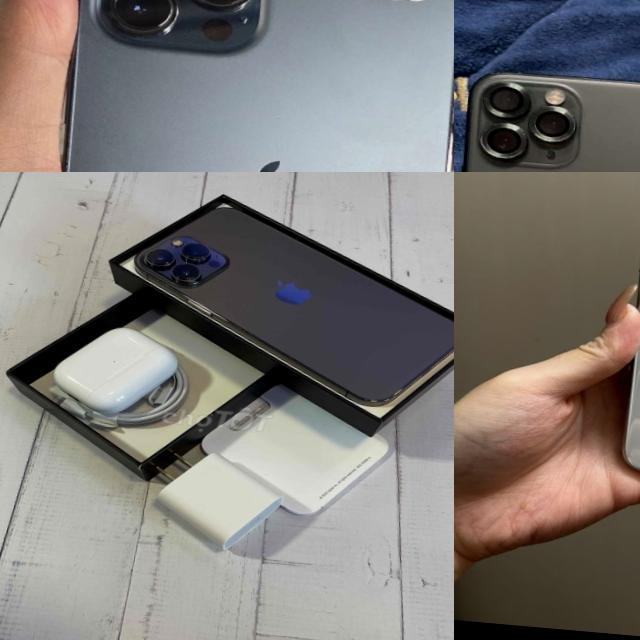gen_11: (462, 73, 640, 172)
gen_12_13: (110, 191, 454, 421), (23, 0, 454, 172)
